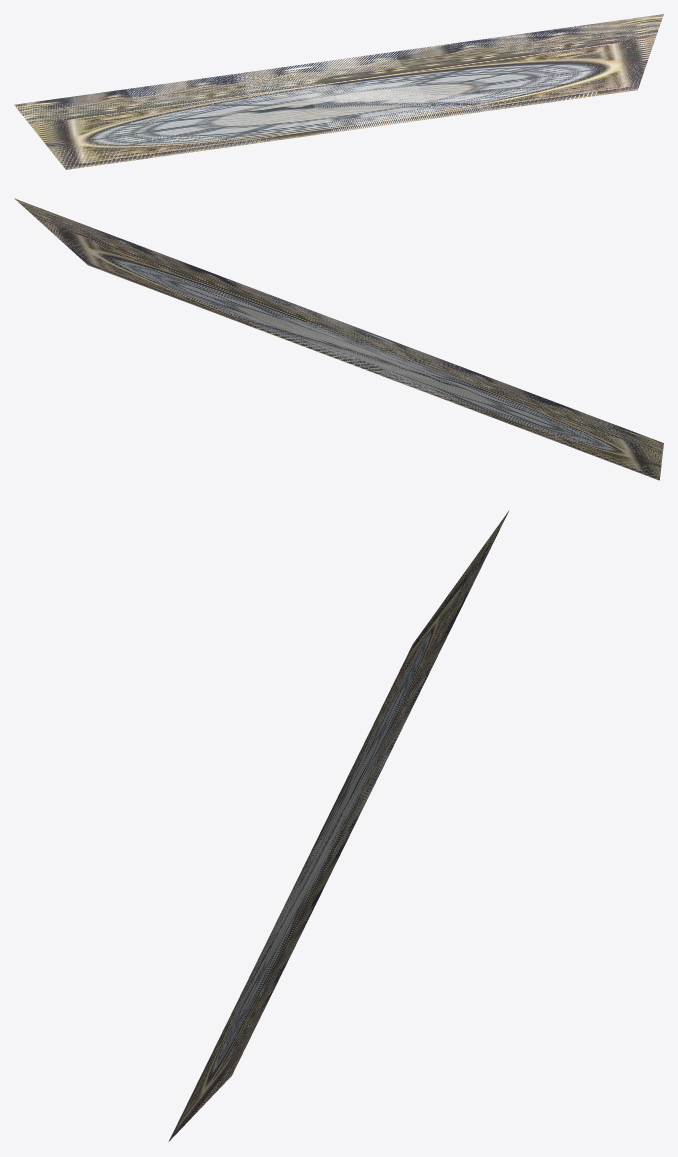
The model's file is 大本钟198.dae.
The picture shows the model from 3 angles, top to bottom: view 1: azimuth 30°, elevation 25°; view 2: azimuth 150°, elevation 25°; view 3: azimuth 270°, elevation 25°; orthographic projection. The views are drawn at different scales.
Parts seen in each view (by area): view 1: SketchUp; view 2: SketchUp; view 3: SketchUp.
Part boxes in pixels (x1,y1,x2,y2): SketchUp: [14, 14, 663, 169]; SketchUp: [14, 198, 663, 480]; SketchUp: [168, 511, 508, 1141].
Size of the model in its own units: 242 by 61.79 by 21.58.
